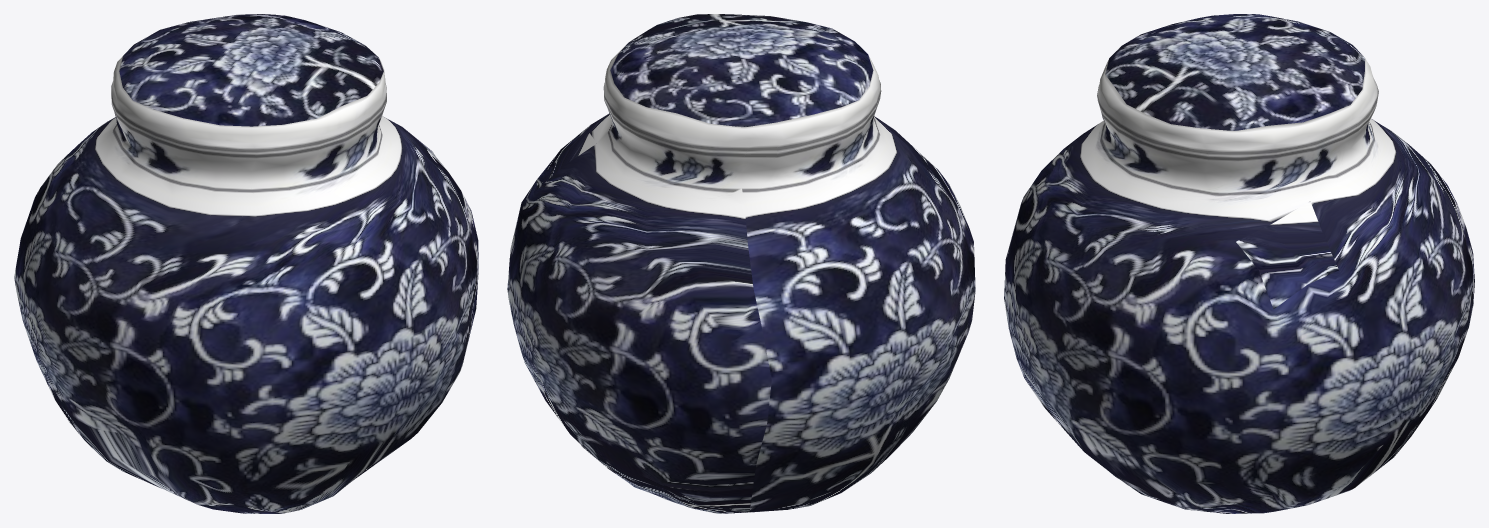
The model's file is Jar.002.fbx.
3 views of the same model, side by side, from view 1: azimuth 30°, elevation 25°; view 2: azimuth 150°, elevation 25°; view 3: azimuth 270°, elevation 25° (orthographic).
Visible parts, largest first — view 1: Jar.002; view 2: Jar.002; view 3: Jar.002.
Boxes of the visible parts, left/top/right/bottom form: Jar.002: left=14, top=14, right=478, bottom=513; Jar.002: left=507, top=14, right=975, bottom=513; Jar.002: left=1004, top=14, right=1474, bottom=513.
Size of the model in its own units: 10.42 by 10.56 by 10.39.
Materials: 1 (1 with a texture image).
